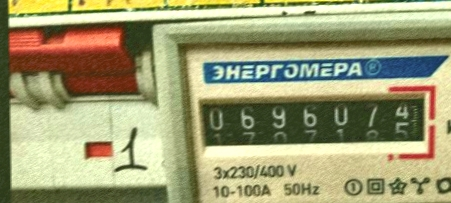0: (206, 105, 224, 130), (332, 100, 348, 126)
4: (394, 98, 408, 119)
5: (394, 120, 409, 139)
6: (237, 103, 255, 129), (301, 100, 317, 128)
7: (363, 101, 379, 127)
9: (269, 103, 286, 129)
screen: (192, 82, 439, 162)
